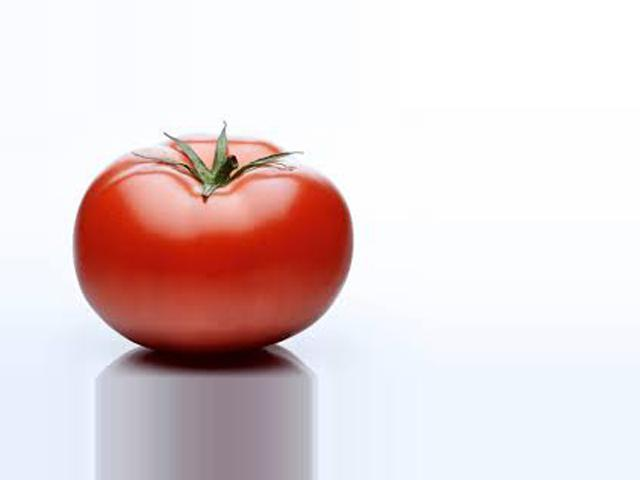tomato: (72, 136, 352, 351)
